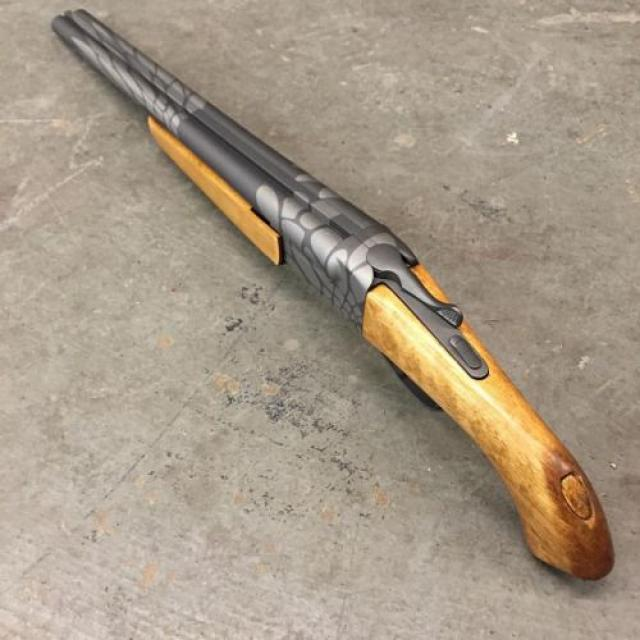shotgun: (52, 4, 613, 594)
